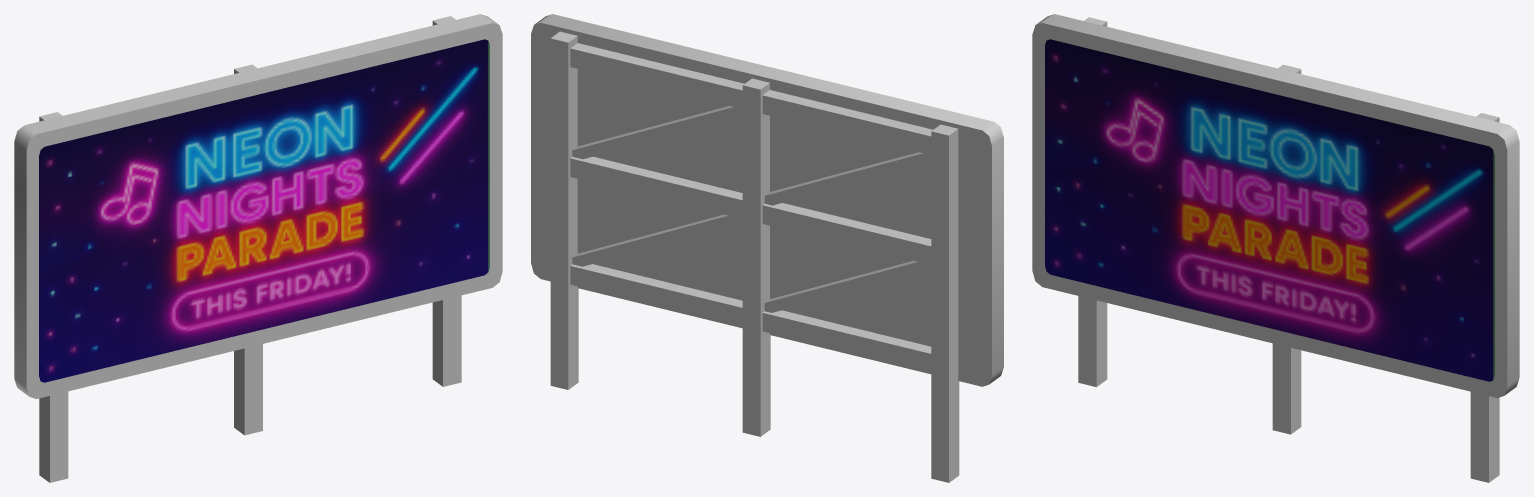
The model's file is Billboard_2x1_04.fbx.
The picture shows the model from 3 angles, left to right: view 1: azimuth 30°, elevation 25°; view 2: azimuth 150°, elevation 25°; view 3: azimuth 330°, elevation 25°; orthographic projection. The views are drawn at different scales.
Parts seen in each view (by area): view 1: Billboard_2x1_04; view 2: Billboard_2x1_04; view 3: Billboard_2x1_04.
Boxes of the visible parts, box(x1,y1,x2,y2) form: Billboard_2x1_04: box(14, 14, 502, 482); Billboard_2x1_04: box(531, 14, 1003, 482); Billboard_2x1_04: box(1032, 14, 1519, 482).
Bounding box in the file's own units: 1312 × 105 × 956.
